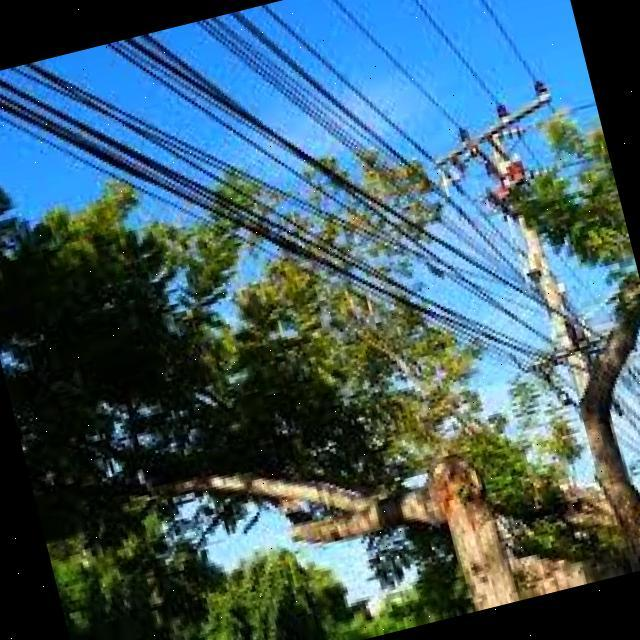critical vegetation: (51, 0, 638, 401)
